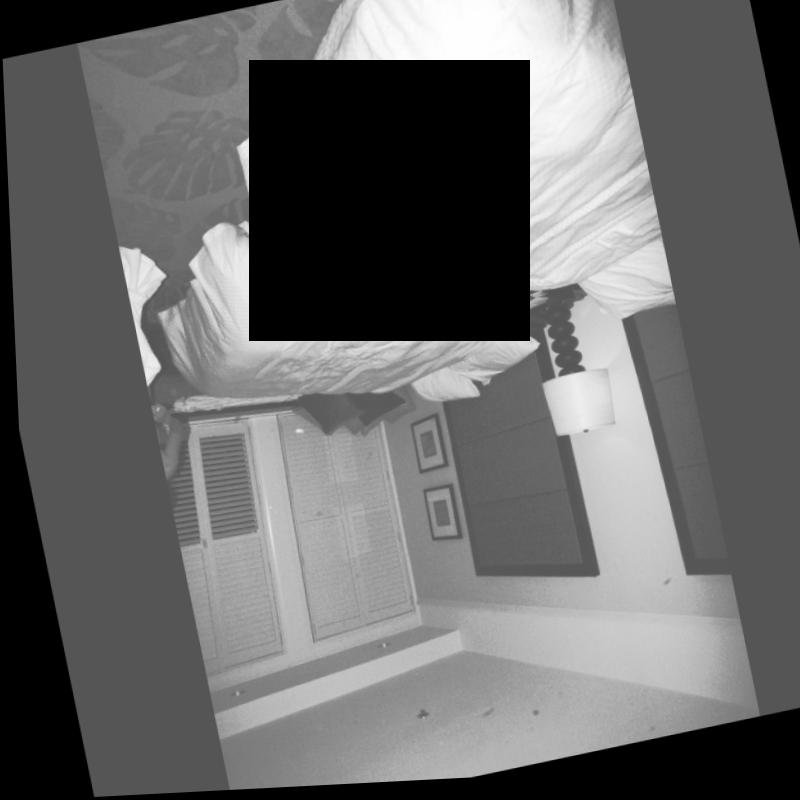pillow: (572, 241, 671, 330), (442, 326, 538, 396), (411, 371, 470, 410)
